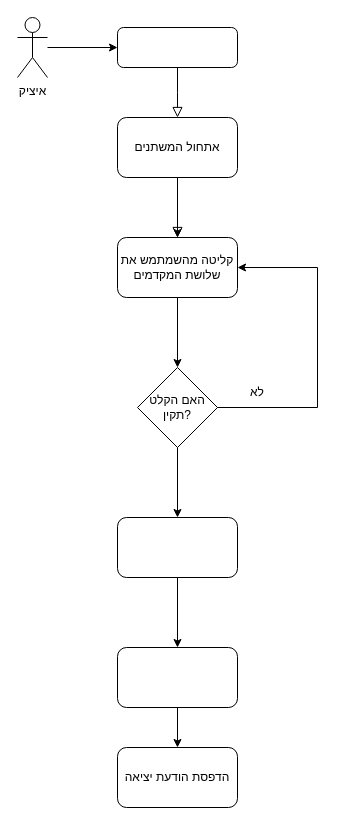
This 343x825 diagram has some shape labels left out. Each missing label, with the centre of its shape:
"הדפסת התשובות" goes at point (177, 677).
"הדפסת כמה תשובות יש עם הפרטמטרים הנתונים" goes at point (177, 547).
"תחילת הריצה והדפסת החוקים למשתמש" goes at point (177, 47).
